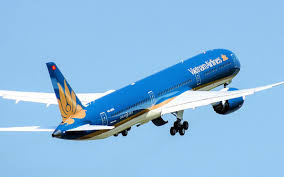maybay_dansu: (7, 45, 283, 141)
